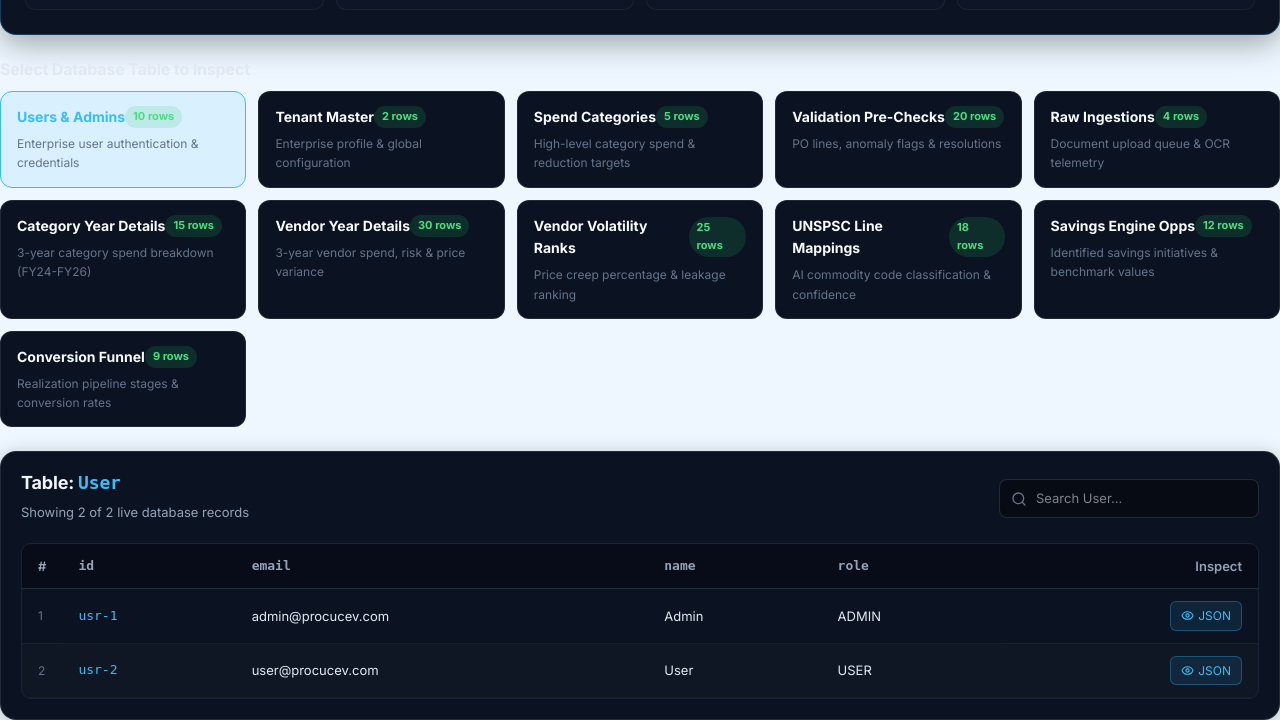
Test: DatabaseViewSection Component › opens and closes JSON record inspector modal
(page scrolled)
Click the button "JSON" in the row of "usr-1".
click(1206, 616)  # box [1170,601,1242,631]
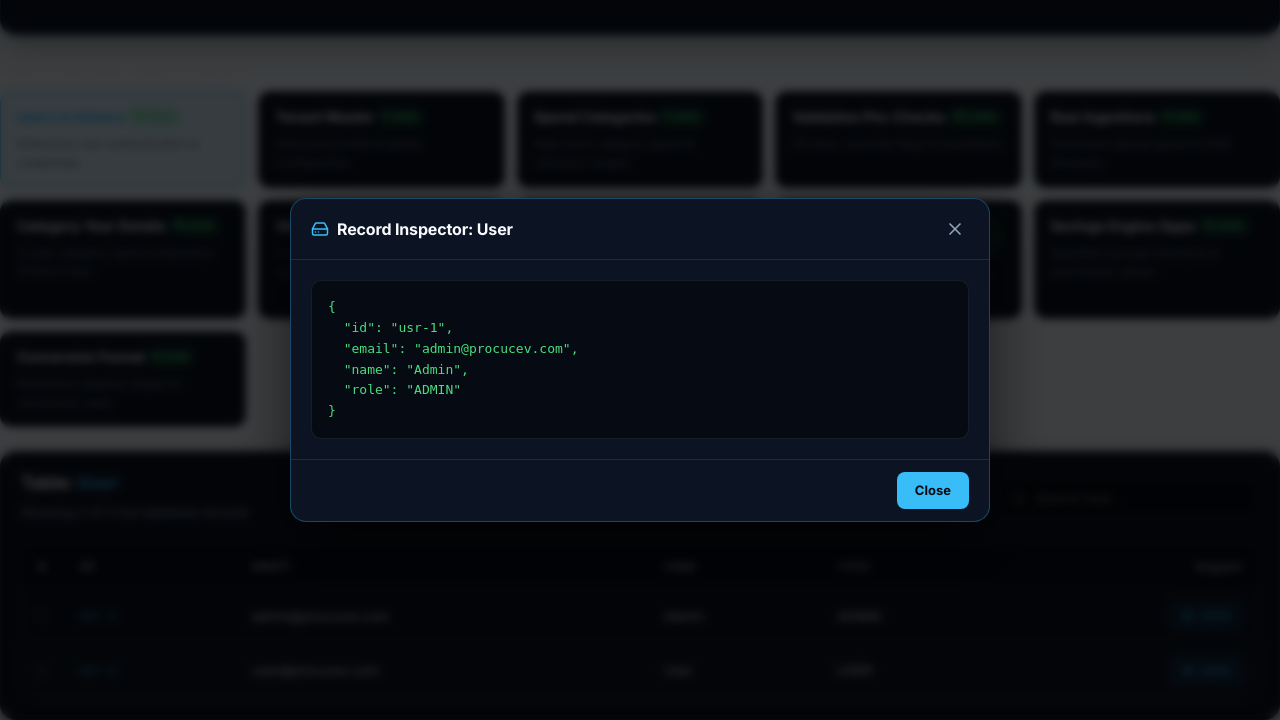
Result: the heading "Record Inspector: User" is shown at [337,219,513,239]
Click the button "Close".
click(933, 490)  # box [897,472,969,509]
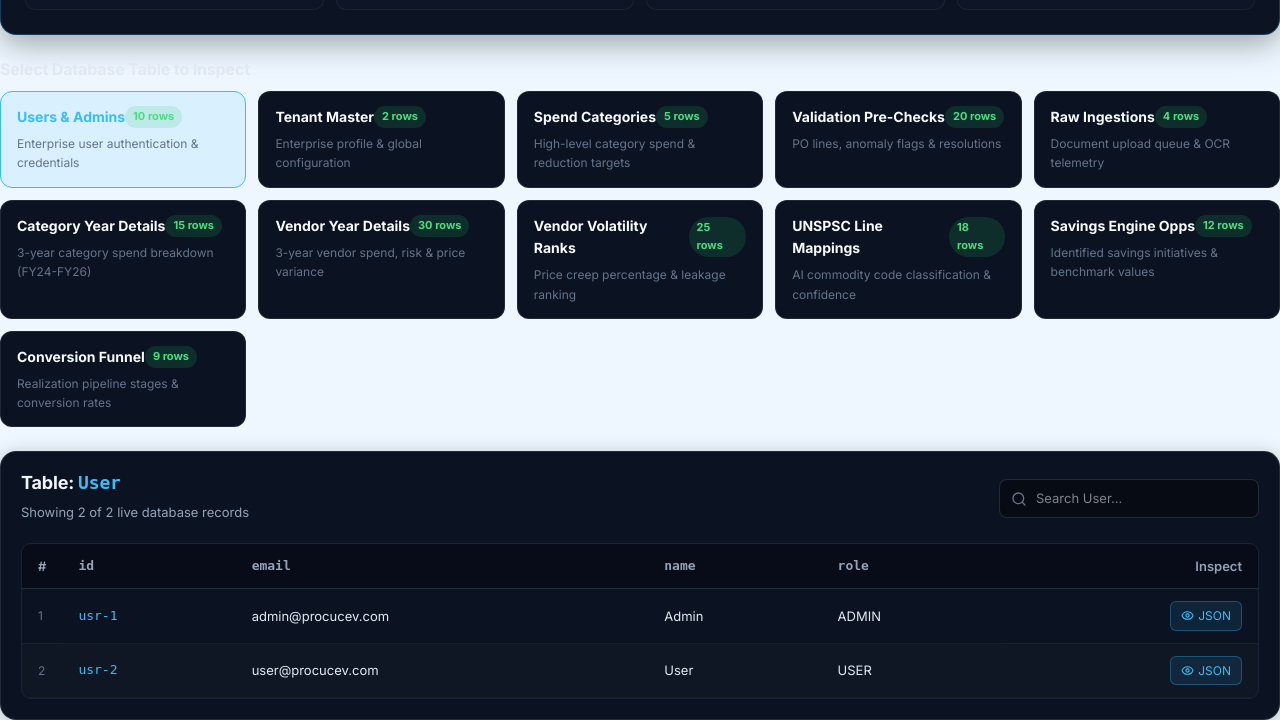
Result: the heading "Record Inspector:" is gone
